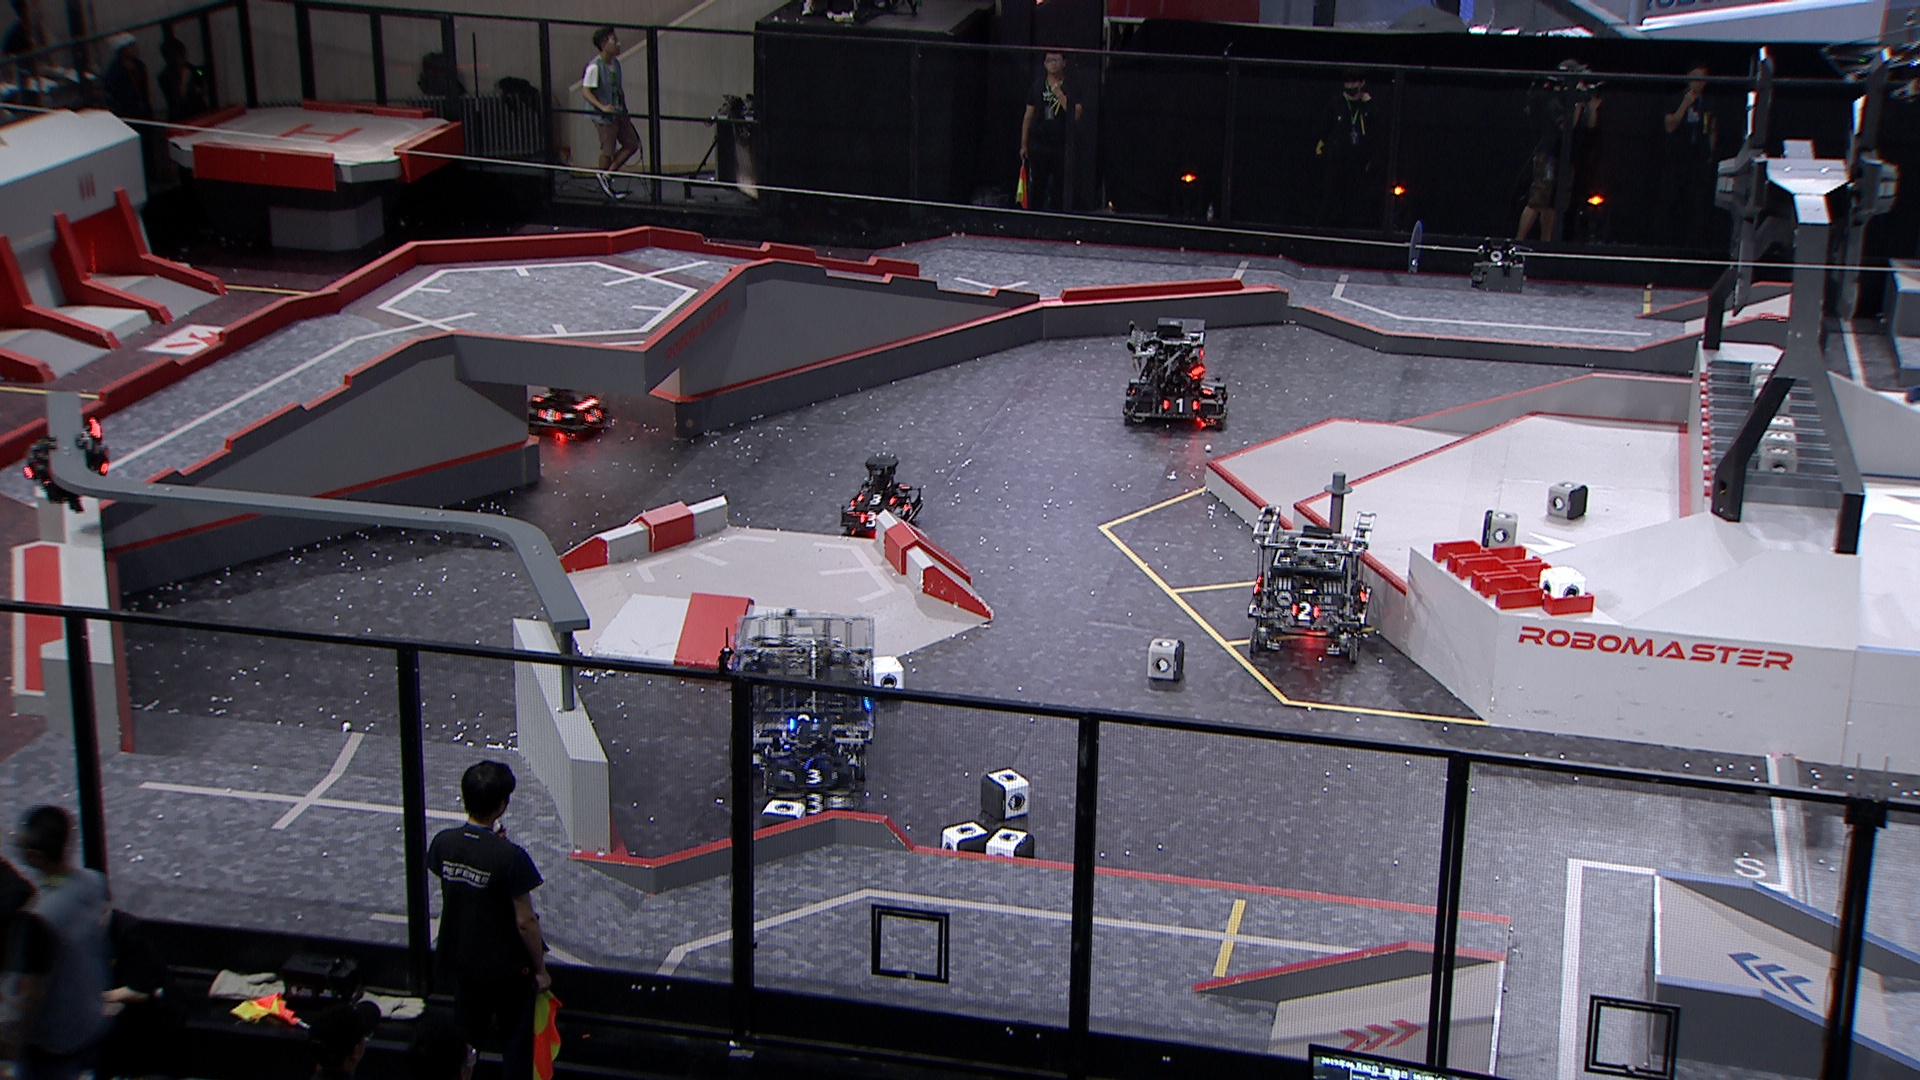armor: (796, 793, 837, 816), (1160, 396, 1201, 415), (789, 769, 839, 785), (1290, 603, 1321, 622), (855, 491, 895, 505), (537, 407, 564, 425), (856, 509, 878, 527), (1197, 380, 1218, 398), (1356, 582, 1370, 605), (898, 496, 915, 514), (584, 407, 603, 425)
car: (727, 609, 878, 766), (1244, 502, 1382, 666), (1124, 315, 1230, 433), (760, 713, 864, 822), (836, 452, 923, 535), (518, 371, 609, 442)
watcher: (18, 418, 109, 516)
